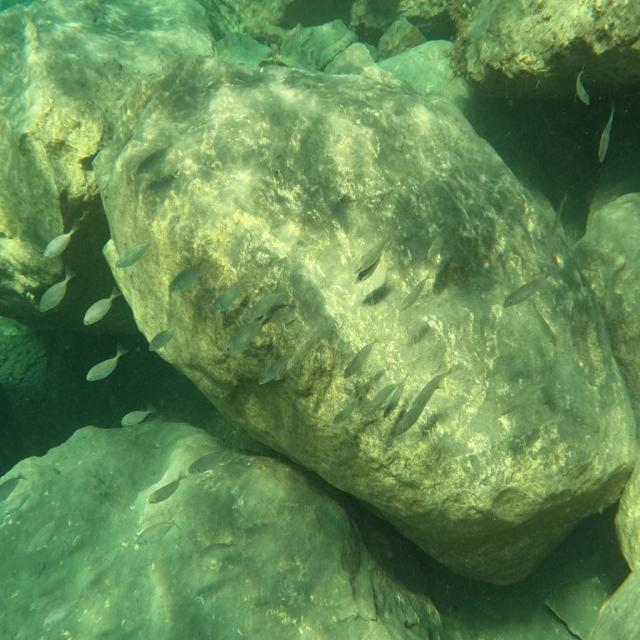Sokar Baligi: (31, 264, 86, 330), (38, 203, 88, 271), (82, 337, 130, 389)
